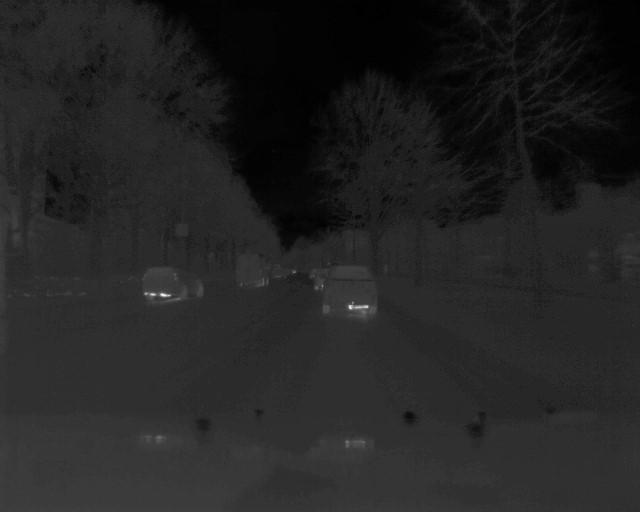car: (325, 266, 383, 314), (139, 262, 210, 299), (231, 251, 274, 289)
